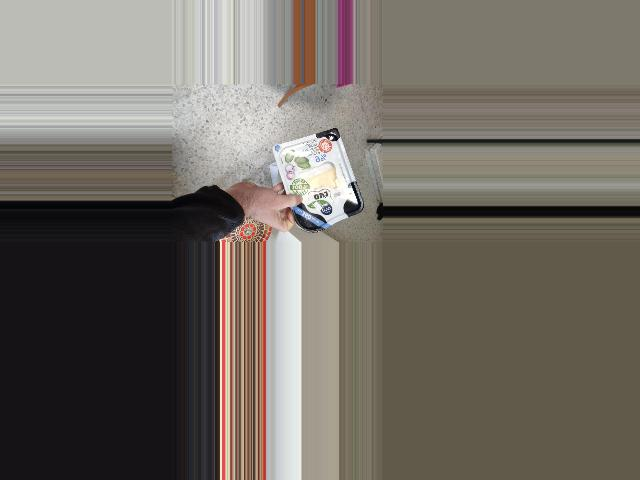cheese: (287, 135, 355, 225)
